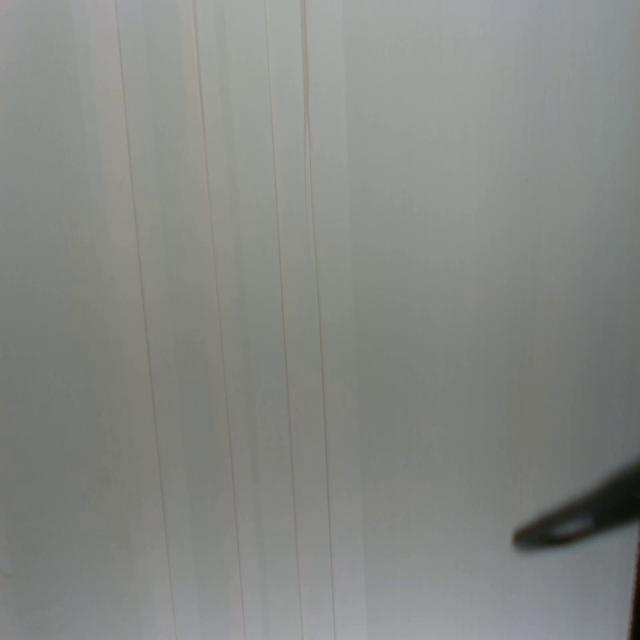crease: (114, 0, 179, 640), (192, 0, 248, 640), (264, 1, 304, 640), (301, 0, 336, 640)
